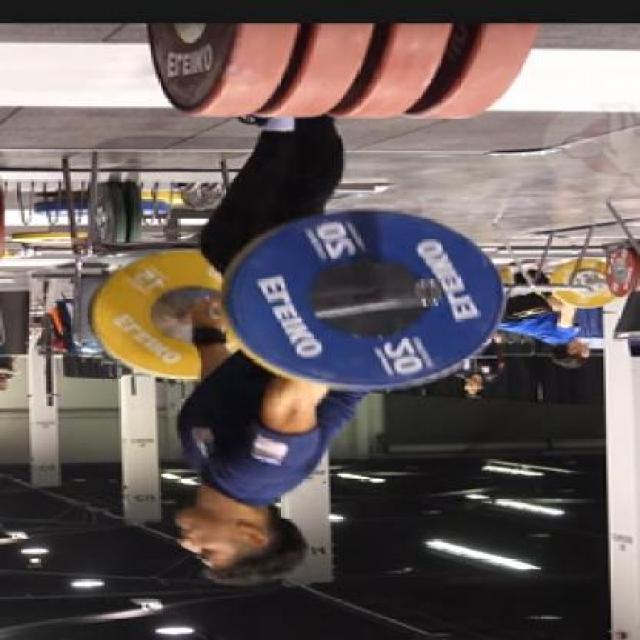Barbell: (408, 276, 450, 310)
